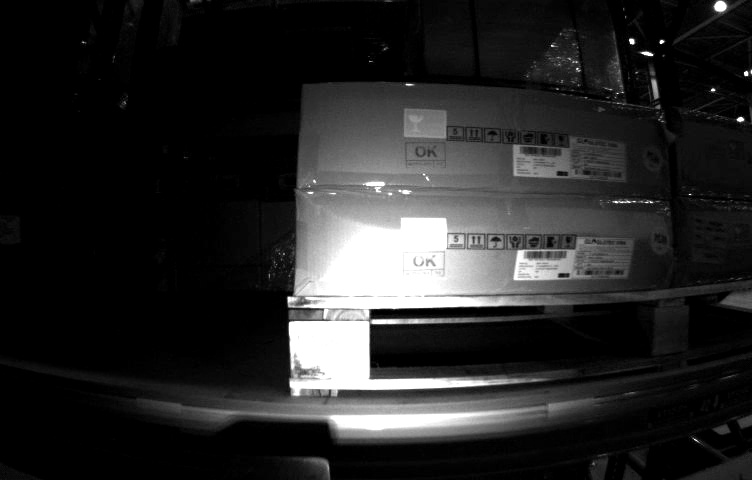True Barcode: (693, 214, 732, 267)
